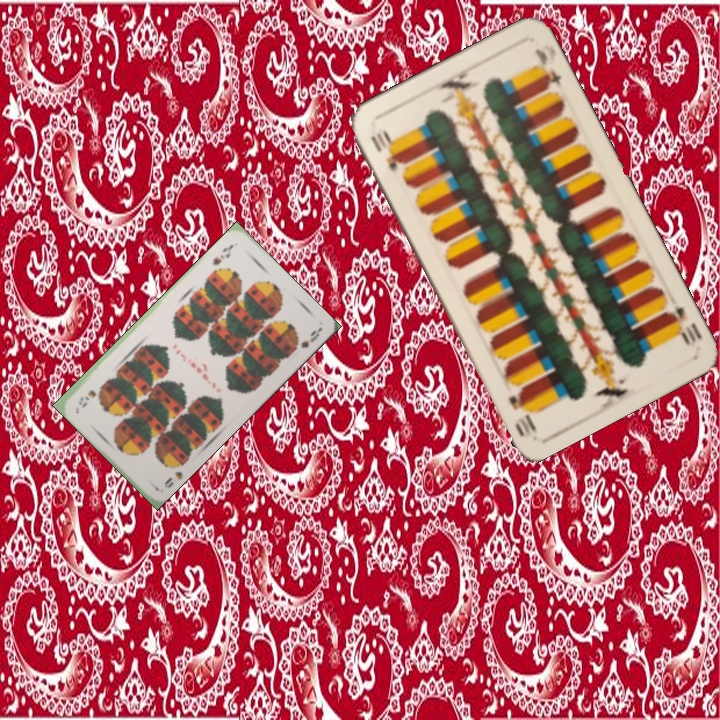E10: (661, 301, 705, 349), (366, 127, 402, 175)
S9: (160, 457, 187, 491), (208, 240, 236, 268)
